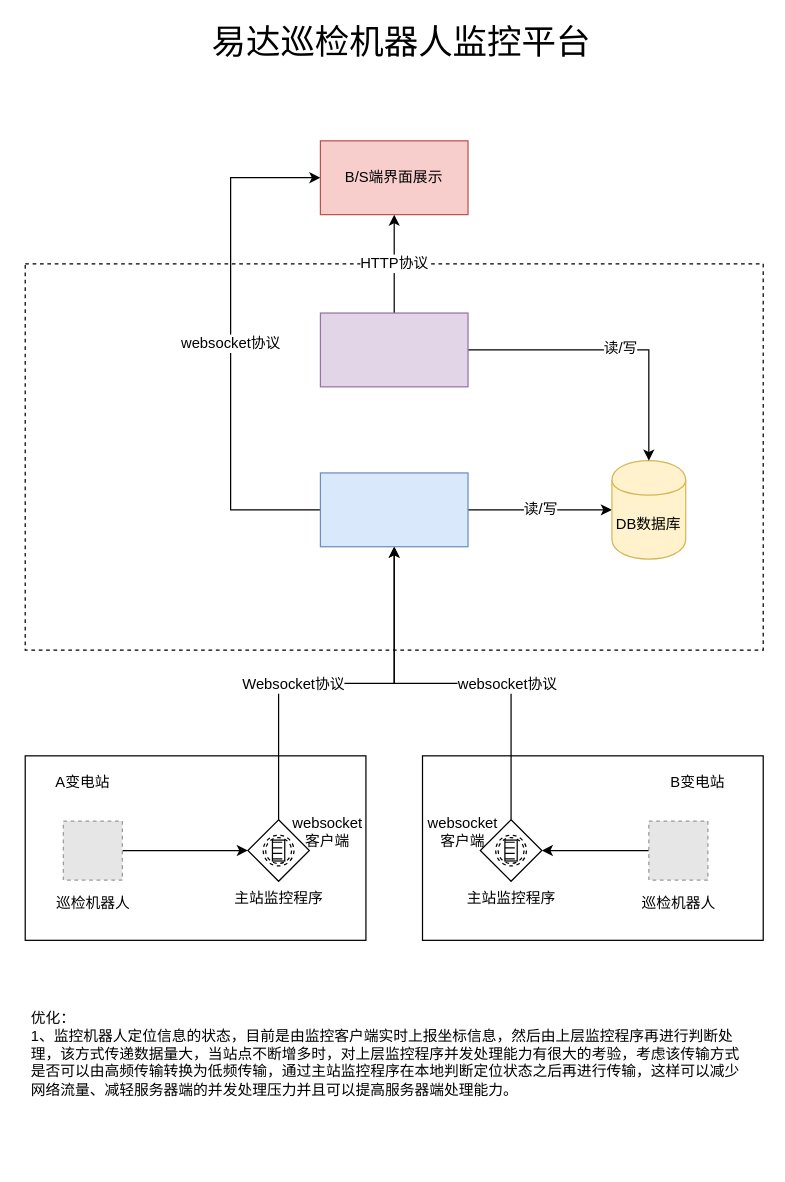
This 785x1182 diagram has some shape labels left out. Grey dashed boxes stand in for pictures. Here are the shapes that lost their labels. From the top down, the centre of each, then its label:
point (393, 349): 后端接口服务
point (393, 509): Websocket服务端
